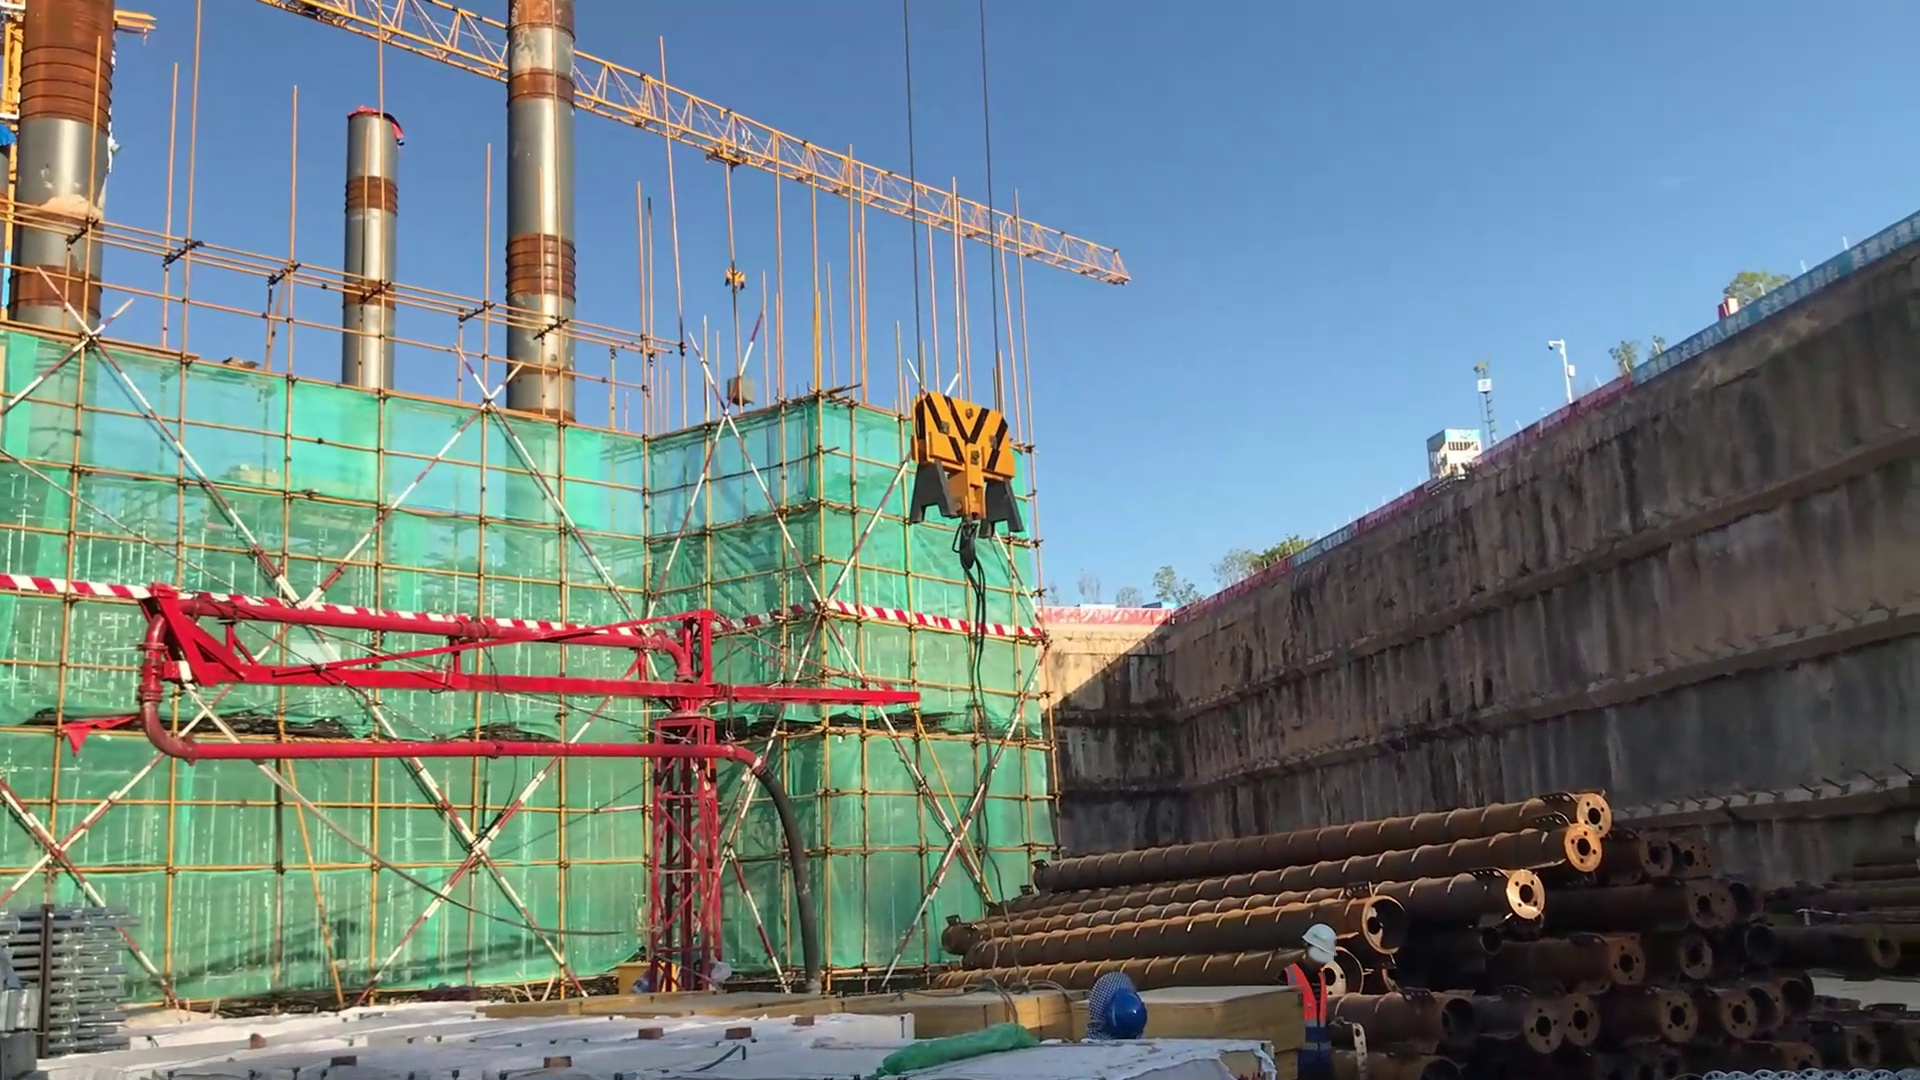board: (1063, 974, 1312, 1058), (832, 981, 1078, 1046)
ebox: (618, 959, 684, 998)
helmet: (1093, 974, 1156, 1043), (1298, 926, 1341, 959)
hook: (911, 388, 1034, 545), (702, 257, 759, 301)
person: (1280, 913, 1369, 1071)
scaffold: (1, 892, 148, 1050)
slogan: (1637, 200, 1920, 396), (1275, 523, 1375, 574)
vest: (1280, 954, 1341, 1057)
